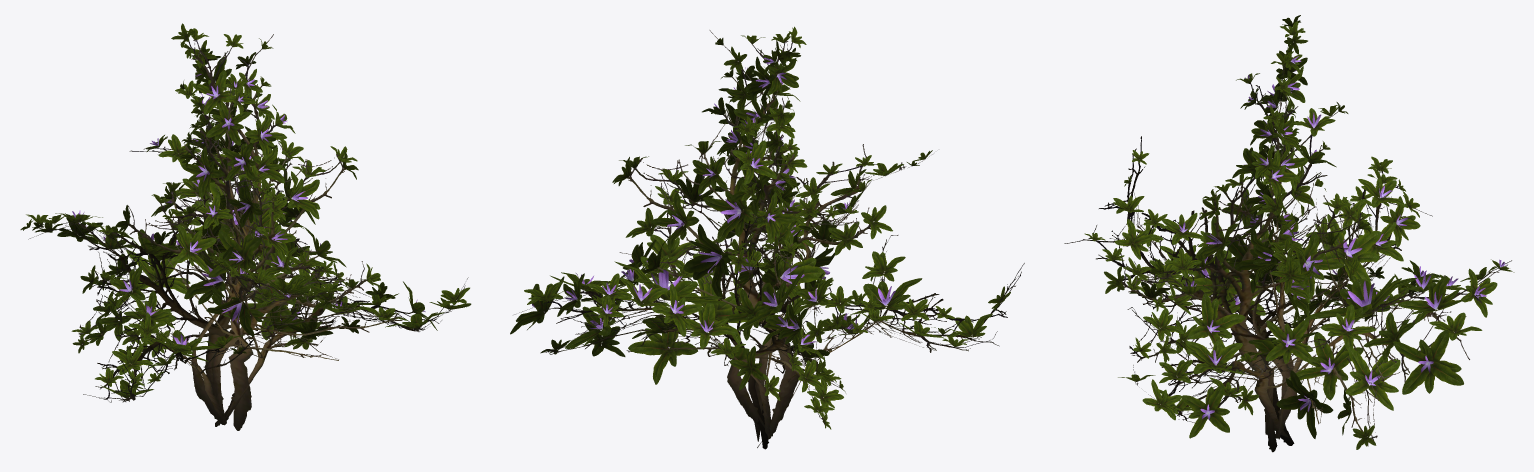
The model's file is bush-flowering.glb.
The picture shows the model from 3 angles, left to right: view 1: azimuth 30°, elevation 25°; view 2: azimuth 150°, elevation 25°; view 3: azimuth 270°, elevation 25°; orthographic projection. The views are drawn at different scales.
Parts seen in each view (by area): view 1: bush_03; view 2: bush_03; view 3: bush_03.
Part boxes in pixels (<box>): bush_03: <box>20,23,471,430</box>; bush_03: <box>510,26,1024,449</box>; bush_03: <box>1064,15,1514,452</box>.
Size of the model in its own units: 0.9502 by 1.02 by 0.9982.
1 material, 1 textured.
